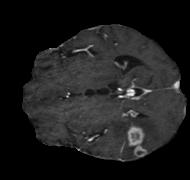Edema: (108, 117, 160, 158)
EnhancingTumors: (125, 125, 146, 156)
Necrosis: (131, 135, 141, 153)
